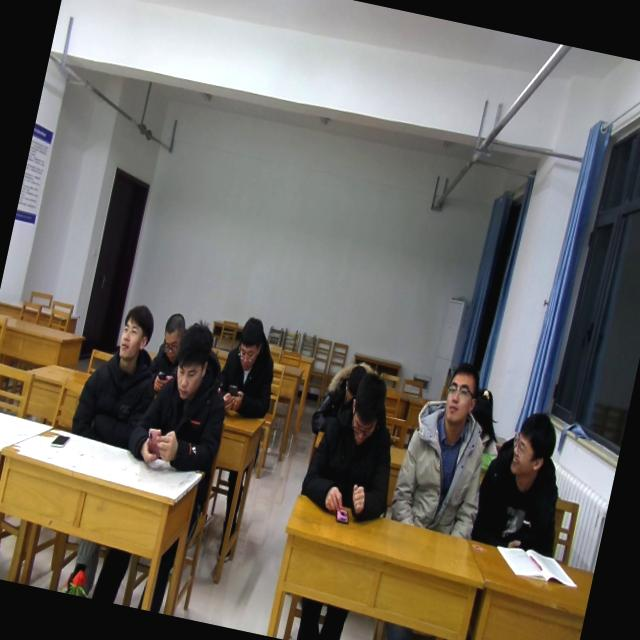bow: (212, 312, 288, 424), (307, 352, 381, 444), (456, 384, 516, 479), (143, 307, 194, 401)
down: (164, 316, 218, 407), (341, 366, 390, 450), (228, 306, 270, 376), (153, 302, 190, 364), (337, 358, 369, 402)
lookup: (438, 355, 486, 428), (110, 296, 158, 368)
sit: (384, 351, 508, 542), (123, 313, 245, 480), (296, 361, 414, 524), (467, 400, 583, 562), (66, 294, 170, 452)
